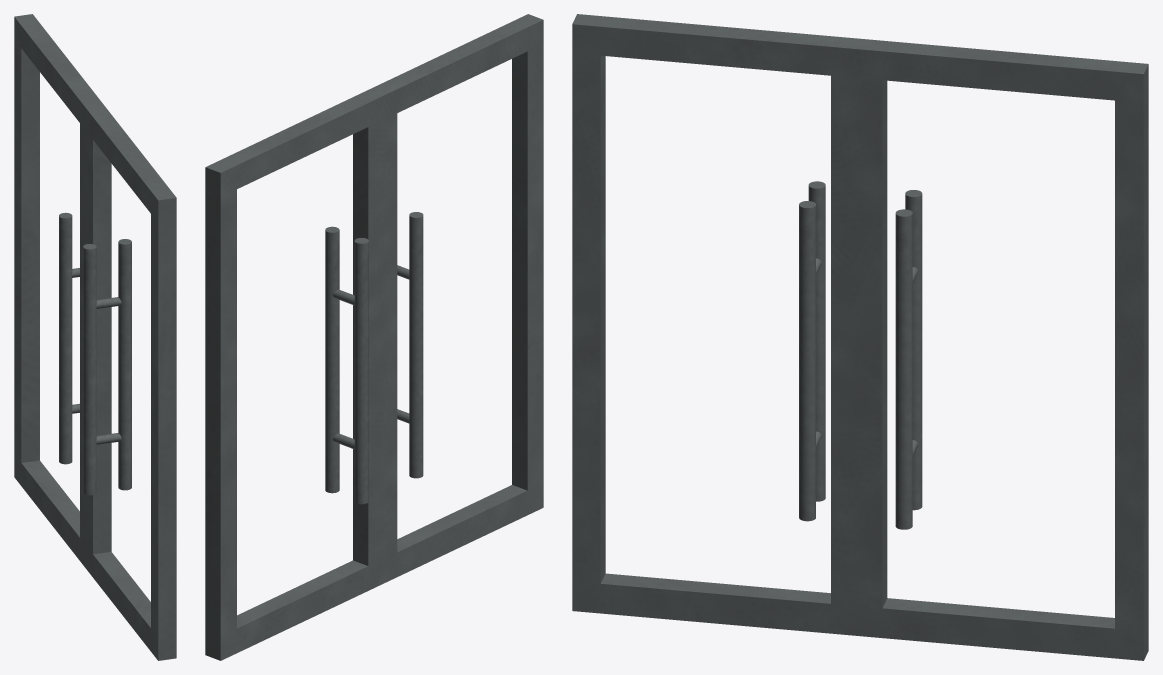
Rendered from SM_106_Door_12_1_2.fbx.
3 views of the same model, side by side, from view 1: azimuth 30°, elevation 25°; view 2: azimuth 150°, elevation 25°; view 3: azimuth 270°, elevation 25° (orthographic). The views are drawn at different scales.
Parts seen in each view (by area): view 1: SM_106_Door_12_1_2; view 2: SM_106_Door_12_1_2; view 3: SM_106_Door_12_1_2.
Part boxes in pixels (x1,y1,x2,y2): SM_106_Door_12_1_2: (14,14,176,660); SM_106_Door_12_1_2: (205,14,543,660); SM_106_Door_12_1_2: (572,14,1148,660).
Bounding box in the file's own units: 59.15 × 239 × 269.
Materials: 1 (1 with a texture image).
